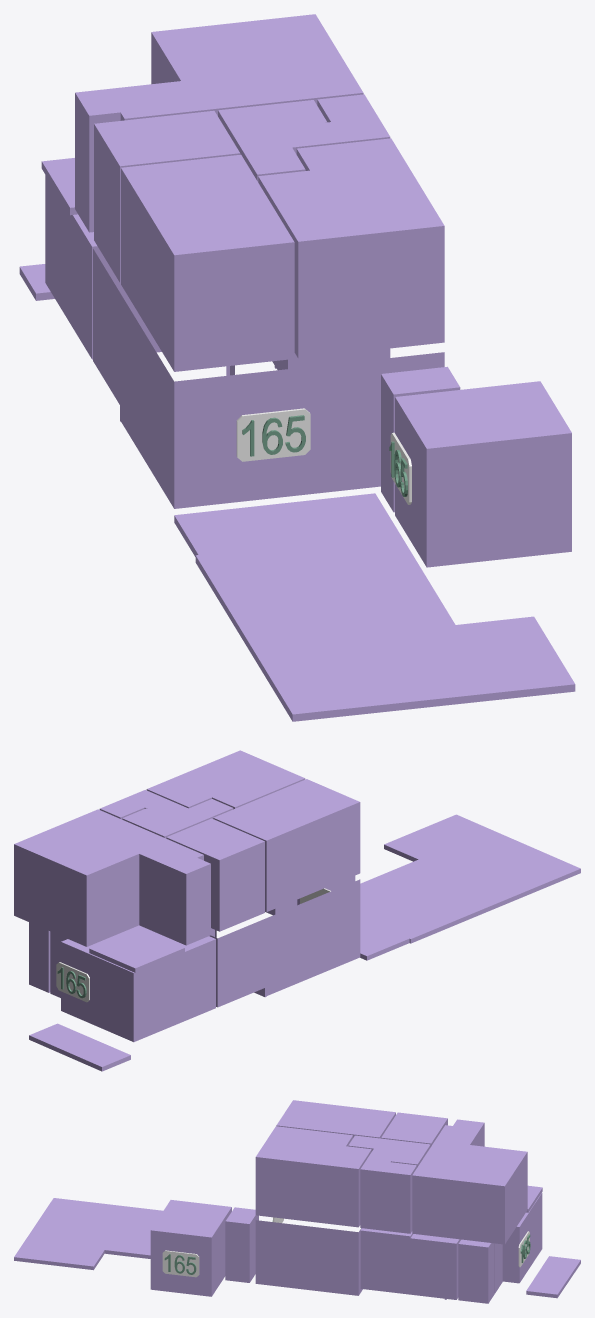
3 views of the same model, one above another, from view 1: azimuth 30°, elevation 25°; view 2: azimuth 150°, elevation 25°; view 3: azimuth 270°, elevation 25° (orthographic). The views are drawn at different scales.
Visible parts, largest first — view 1: g_13, g_1, g_7, g_6, g_5, g_11, g_9, g_0, g_8, g_4, g_26, g_10 (+2 smaller); view 2: g_11, g_13, g_7, g_1, g_0, g_9, g_6, g_14, g_12, g_8, g_3, g_10 (+2 smaller); view 3: g_11, g_6, g_13, g_1, g_2, g_5, g_10, g_7, g_3, g_4, g_0, g_9 (+3 smaller).
Boxes of the visible parts, <box> form: g_13: <box>174,493,575,721</box>; g_1: <box>93,249,444,508</box>; g_7: <box>121,154,294,371</box>; g_6: <box>258,138,444,358</box>; g_5: <box>395,381,571,567</box>; g_11: <box>75,14,363,232</box>; g_9: <box>94,110,240,282</box>; g_0: <box>45,175,161,359</box>; g_8: <box>218,100,336,181</box>; g_4: <box>381,366,460,512</box>; g_26: <box>236,408,310,461</box>; g_10: <box>317,94,390,144</box>; g_11: <box>14,809,210,946</box>; g_13: <box>360,814,580,960</box>; g_7: <box>213,779,360,912</box>; g_1: <box>209,879,360,1007</box>; g_0: <box>61,925,215,1042</box>; g_9: <box>166,818,264,931</box>; g_6: <box>146,750,305,809</box>; g_14: <box>89,928,184,972</box>; g_12: <box>29,1023,130,1071</box>; g_8: <box>122,799,233,838</box>; g_3: <box>29,922,50,992</box>; g_10: <box>99,790,168,819</box>; g_11: <box>412,1119,527,1244</box>; g_6: <box>255,1126,371,1227</box>; g_13: <box>14,1198,162,1270</box>; g_1: <box>255,1220,362,1295</box>; g_2: <box>360,1228,502,1299</box>; g_5: <box>150,1200,231,1296</box>; g_10: <box>360,1158,416,1233</box>; g_7: <box>276,1100,395,1138</box>; g_3: <box>458,1239,494,1303</box>; g_4: <box>225,1207,258,1282</box>; g_0: <box>502,1193,542,1283</box>; g_9: <box>381,1112,447,1146</box>.
Size of the model in its own units: 10.14 by 5.35 by 21.
